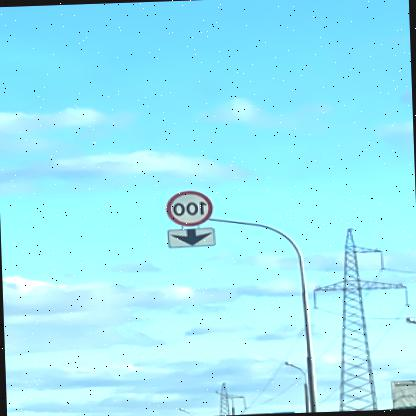speedlimit: (168, 188, 218, 226)
